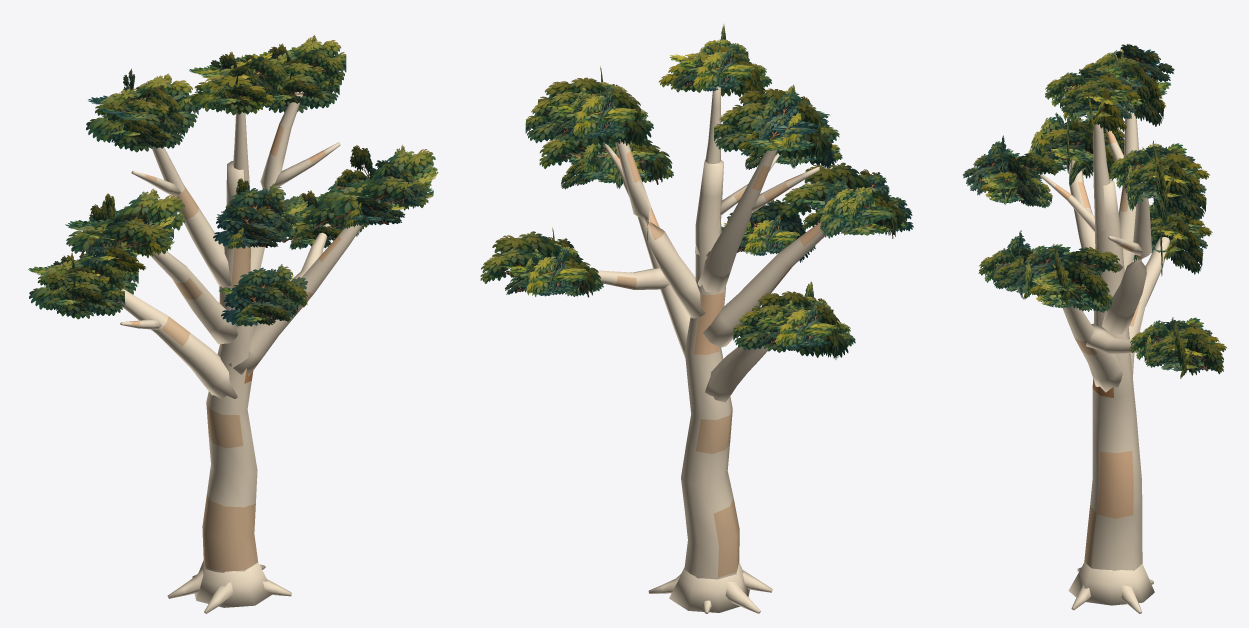
Rendered from TREE_EUCALYPTUS_001_v007_LOD_GAMEPLAY.glb.
3 views of the same model, side by side, from view 1: azimuth 30°, elevation 25°; view 2: azimuth 150°, elevation 25°; view 3: azimuth 270°, elevation 25° (orthographic). The views are drawn at different scales.
Visible parts, largest first — view 1: TREE_EUCALYPTUS_001_GAMEPLAY_AUTHORED_FOLIAGE_ISLANDS, TREE_EUCALYPTUS_001_GAMEPLAY_MAIN_TRUNK, TREE_EUCALYPTUS_001_GAMEPLAY_LOWER_LEFT_SWEEP, TREE_EUCALYPTUS_001_GAMEPLAY_UPPER_LEFT_FORK, TREE_EUCALYPTUS_001_GAMEPLAY_MID_RIGHT_SWEEP, TREE_EUCALYPTUS_001_GAMEPLAY_MID_LEFT_ARCH, TREE_EUCALYPTUS_001_GAMEPLAY_SCULPTED_ROOT_COLLAR, TREE_EUCALYPTUS_001_GAMEPLAY_UPPER_RIGHT_ARCH, TREE_EUCALYPTUS_001_GAMEPLAY_CENTRAL_CROWN_FORK, TREE_EUCALYPTUS_001_GAMEPLAY_RIGHT_TOP_SUPPORT; view 2: TREE_EUCALYPTUS_001_GAMEPLAY_AUTHORED_FOLIAGE_ISLANDS, TREE_EUCALYPTUS_001_GAMEPLAY_MAIN_TRUNK, TREE_EUCALYPTUS_001_GAMEPLAY_UPPER_RIGHT_ARCH, TREE_EUCALYPTUS_001_GAMEPLAY_MID_LEFT_ARCH, TREE_EUCALYPTUS_001_GAMEPLAY_UPPER_LEFT_FORK, TREE_EUCALYPTUS_001_GAMEPLAY_SCULPTED_ROOT_COLLAR, TREE_EUCALYPTUS_001_GAMEPLAY_LOWER_LEFT_SWEEP, TREE_EUCALYPTUS_001_GAMEPLAY_MID_RIGHT_SWEEP, TREE_EUCALYPTUS_001_GAMEPLAY_LOWER_RIGHT_REACH, TREE_EUCALYPTUS_001_GAMEPLAY_CENTRAL_CROWN_FORK, TREE_EUCALYPTUS_001_GAMEPLAY_LEFT_TOP_SUPPORT; view 3: TREE_EUCALYPTUS_001_GAMEPLAY_AUTHORED_FOLIAGE_ISLANDS, TREE_EUCALYPTUS_001_GAMEPLAY_MAIN_TRUNK, TREE_EUCALYPTUS_001_GAMEPLAY_UPPER_RIGHT_ARCH, TREE_EUCALYPTUS_001_GAMEPLAY_SCULPTED_ROOT_COLLAR, TREE_EUCALYPTUS_001_GAMEPLAY_MID_RIGHT_SWEEP, TREE_EUCALYPTUS_001_GAMEPLAY_CENTRAL_CROWN_FORK, TREE_EUCALYPTUS_001_GAMEPLAY_UPPER_LEFT_FORK, TREE_EUCALYPTUS_001_GAMEPLAY_LOWER_LEFT_SWEEP, TREE_EUCALYPTUS_001_GAMEPLAY_MID_LEFT_ARCH, TREE_EUCALYPTUS_001_GAMEPLAY_LOWER_RIGHT_REACH, TREE_EUCALYPTUS_001_GAMEPLAY_CENTRE_BACK_SUPPORT.
Part boxes in pixels (box(x1,y1,x2,y2)): TREE_EUCALYPTUS_001_GAMEPLAY_AUTHORED_FOLIAGE_ISLANDS: box(28, 35, 438, 326); TREE_EUCALYPTUS_001_GAMEPLAY_MAIN_TRUNK: box(202, 161, 257, 572); TREE_EUCALYPTUS_001_GAMEPLAY_LOWER_LEFT_SWEEP: box(117, 289, 237, 399); TREE_EUCALYPTUS_001_GAMEPLAY_UPPER_LEFT_FORK: box(152, 146, 231, 287); TREE_EUCALYPTUS_001_GAMEPLAY_MID_RIGHT_SWEEP: box(229, 223, 363, 376); TREE_EUCALYPTUS_001_GAMEPLAY_MID_LEFT_ARCH: box(150, 251, 238, 344); TREE_EUCALYPTUS_001_GAMEPLAY_SCULPTED_ROOT_COLLAR: box(194, 560, 271, 607); TREE_EUCALYPTUS_001_GAMEPLAY_UPPER_RIGHT_ARCH: box(250, 82, 305, 271); TREE_EUCALYPTUS_001_GAMEPLAY_CENTRAL_CROWN_FORK: box(233, 112, 249, 189); TREE_EUCALYPTUS_001_GAMEPLAY_RIGHT_TOP_SUPPORT: box(269, 142, 340, 188); TREE_EUCALYPTUS_001_GAMEPLAY_AUTHORED_FOLIAGE_ISLANDS: box(480, 24, 913, 359); TREE_EUCALYPTUS_001_GAMEPLAY_MAIN_TRUNK: box(681, 159, 739, 579); TREE_EUCALYPTUS_001_GAMEPLAY_UPPER_RIGHT_ARCH: box(615, 139, 705, 318); TREE_EUCALYPTUS_001_GAMEPLAY_MID_LEFT_ARCH: box(703, 222, 824, 347); TREE_EUCALYPTUS_001_GAMEPLAY_UPPER_LEFT_FORK: box(698, 149, 777, 293); TREE_EUCALYPTUS_001_GAMEPLAY_SCULPTED_ROOT_COLLAR: box(669, 562, 749, 612); TREE_EUCALYPTUS_001_GAMEPLAY_LOWER_LEFT_SWEEP: box(705, 345, 767, 402); TREE_EUCALYPTUS_001_GAMEPLAY_MID_RIGHT_SWEEP: box(623, 182, 690, 358); TREE_EUCALYPTUS_001_GAMEPLAY_LOWER_RIGHT_REACH: box(597, 268, 669, 289); TREE_EUCALYPTUS_001_GAMEPLAY_CENTRAL_CROWN_FORK: box(695, 86, 721, 256); TREE_EUCALYPTUS_001_GAMEPLAY_LEFT_TOP_SUPPORT: box(751, 167, 819, 212); TREE_EUCALYPTUS_001_GAMEPLAY_AUTHORED_FOLIAGE_ISLANDS: box(963, 44, 1226, 378); TREE_EUCALYPTUS_001_GAMEPLAY_MAIN_TRUNK: box(1084, 179, 1142, 570); TREE_EUCALYPTUS_001_GAMEPLAY_UPPER_RIGHT_ARCH: box(1101, 182, 1151, 334); TREE_EUCALYPTUS_001_GAMEPLAY_SCULPTED_ROOT_COLLAR: box(1068, 562, 1154, 605); TREE_EUCALYPTUS_001_GAMEPLAY_MID_RIGHT_SWEEP: box(1063, 305, 1122, 392); TREE_EUCALYPTUS_001_GAMEPLAY_CENTRAL_CROWN_FORK: box(1093, 120, 1123, 272); TREE_EUCALYPTUS_001_GAMEPLAY_UPPER_LEFT_FORK: box(1118, 104, 1138, 271); TREE_EUCALYPTUS_001_GAMEPLAY_LOWER_LEFT_SWEEP: box(1129, 236, 1170, 376); TREE_EUCALYPTUS_001_GAMEPLAY_MID_LEFT_ARCH: box(1069, 160, 1129, 338); TREE_EUCALYPTUS_001_GAMEPLAY_LOWER_RIGHT_REACH: box(1086, 324, 1155, 354); TREE_EUCALYPTUS_001_GAMEPLAY_CENTRE_BACK_SUPPORT: box(1040, 174, 1094, 231).
Bounding box in the file's own units: 9.62 × 13.95 × 6.58.
5 materials, 1 textured.
